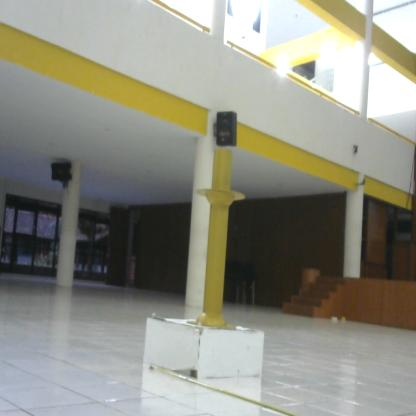pole: (182, 151, 249, 333)
